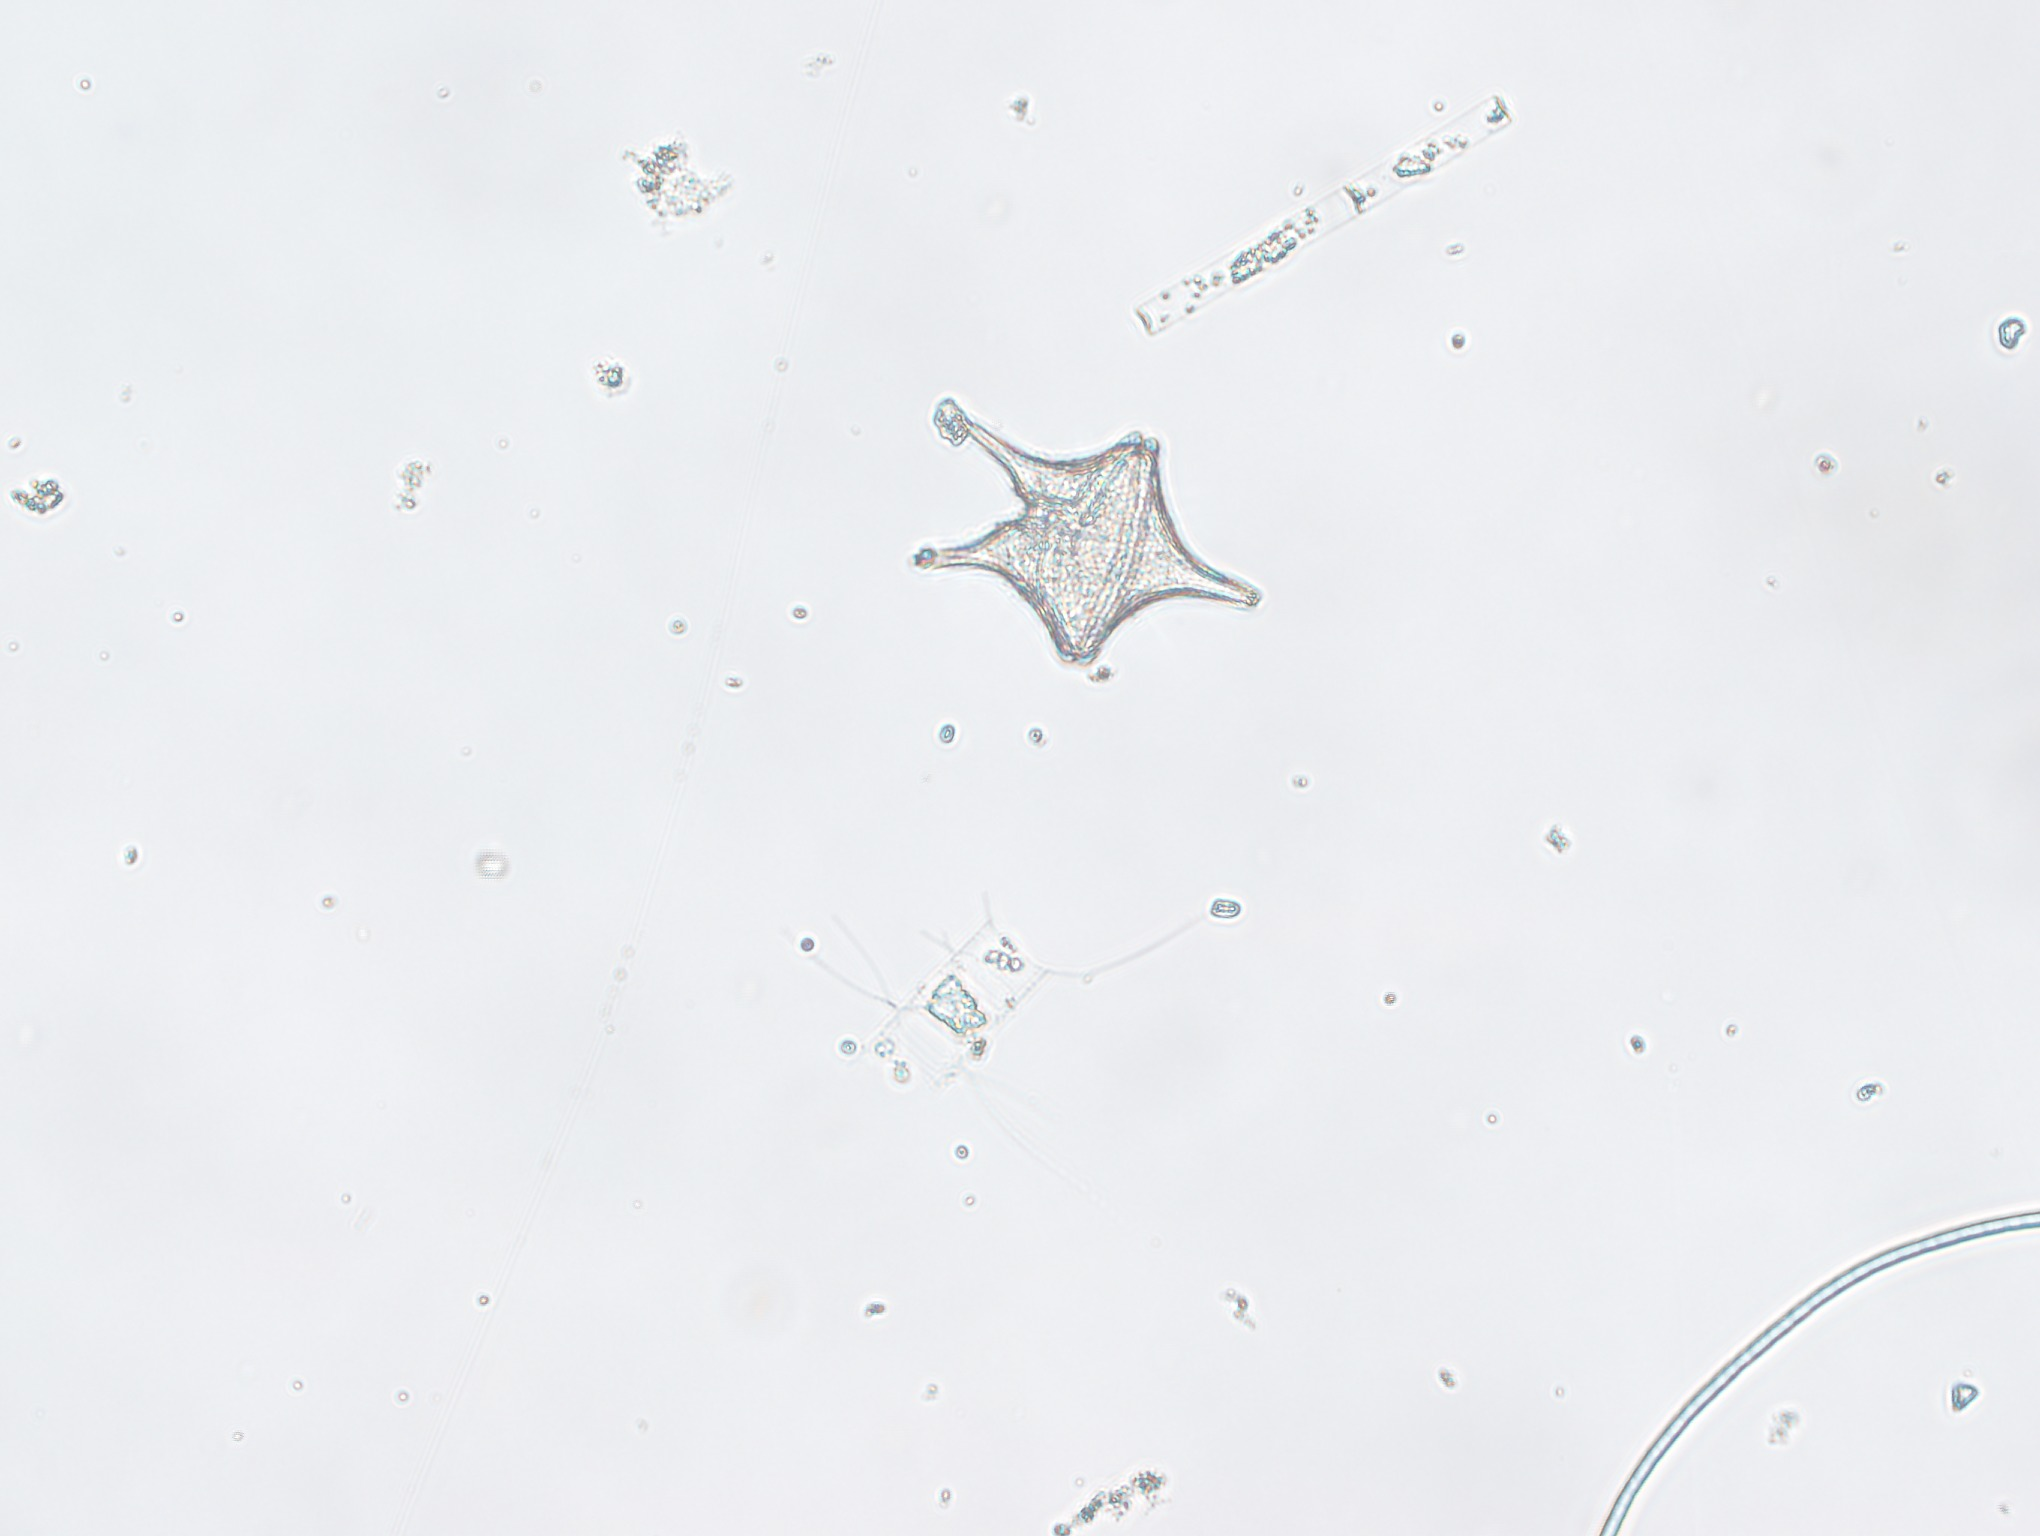protoperidinium: (919, 390, 1271, 674)
rhizosolenia: (1126, 81, 1524, 347)
